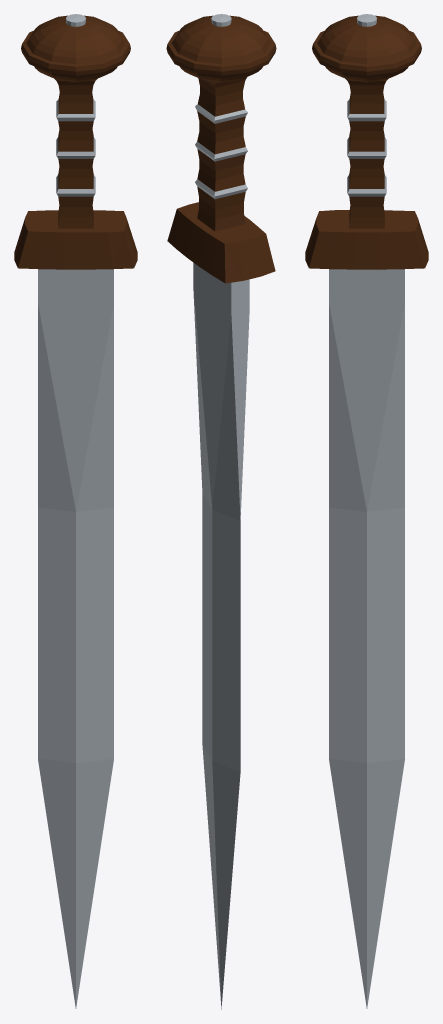
Rendered from Gladius.fbx.
3 renders of one model, left to right at view 1: azimuth 90°, elevation 25°; view 2: azimuth 210°, elevation 25°; view 3: azimuth 270°, elevation 25°, orthographic.
Visible parts, largest first — view 1: Gladius; view 2: Gladius; view 3: Gladius.
Part boxes in pixels (box(x1,y1,x2,y2)): Gladius: box(14, 14, 137, 1008); Gladius: box(166, 14, 276, 1009); Gladius: box(305, 14, 428, 1008).
Size of the model in its own units: 12 by 119 by 13.42.
